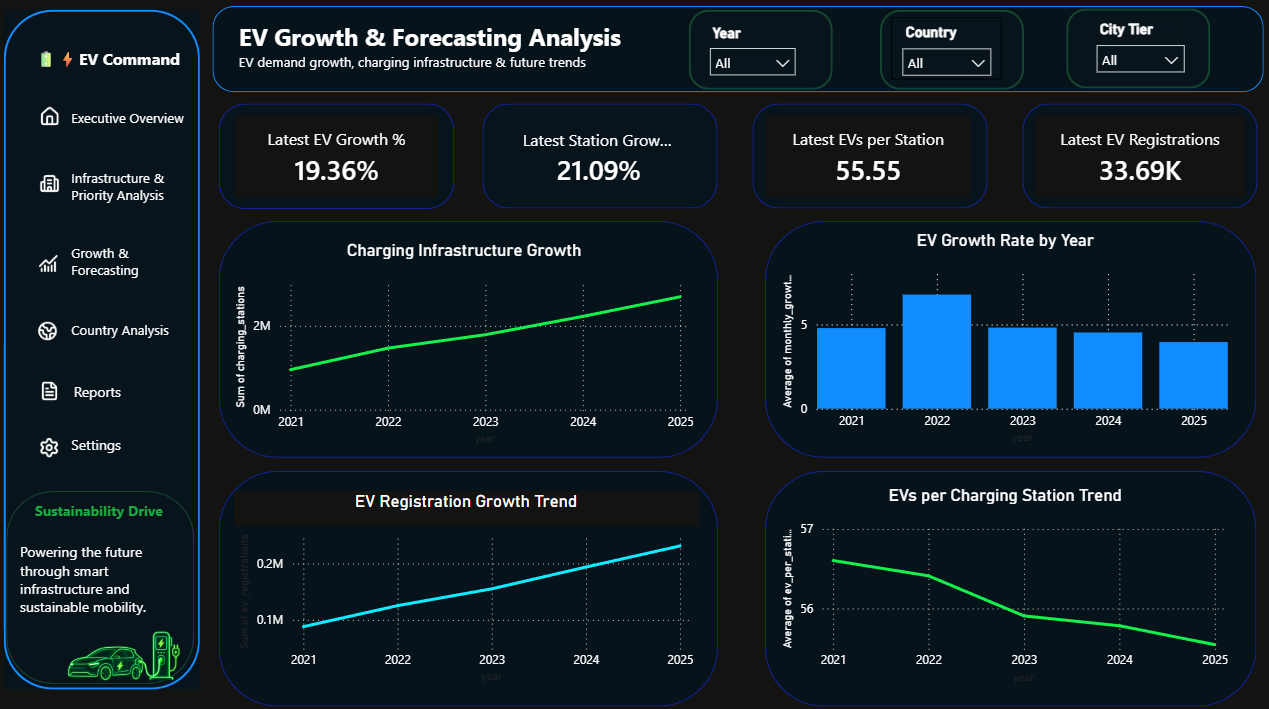

What the dashboard file says about the page in this screenshot:
{"tool":"powerbi","page":{"name":"3.Growth & Forecasting","canvas":[1280,720],"ordinal":2},"visuals":[{"type":"shape","box":[217.5,10.3,1051.2,86.2],"z":0},{"type":"textbox","box":[239.3,19.6,409.8,88.3],"z":1000},{"type":"shape","box":[8.6,13.5,196.3,679.8],"z":2000},{"type":"shape","box":[223.9,475,499.2,235.5],"z":3000},{"type":"lineChart","title":"EV Registration Growth Trend","fields":{"Category":["ev_charging_analysis ev_data.year"],"Y":["Sum(ev_charging_analysis ev_data.ev_registrations)"]},"box":[239.3,495.4,464.5,196.9],"z":4000},{"type":"shape","box":[223.9,225.2,499.2,236.8],"z":5000},{"type":"lineChart","title":"Charging Infrastructure Growth","fields":{"Category":["ev_charging_analysis ev_data.year"],"Y":["Sum(ev_charging_analysis ev_data.charging_stations)"]},"box":[235.5,243.2,468.4,209.7],"z":6000},{"type":"shape","box":[769.4,225.2,491.5,236.8],"z":7000},{"type":"shape","box":[769.4,474.8,491.5,235.5],"z":8000},{"type":"lineChart","title":"EVs per Charging Station Trend","fields":{"Y":["Avg(ev_charging_analysis ev_data.ev_per_station)"],"Category":["ev_charging_analysis ev_data.year"]},"box":[782.3,488.9,455.5,203.3],"z":9000},{"type":"clusteredColumnChart","title":"EV Growth Rate by Year","fields":{"Category":["ev_charging_analysis ev_data.year"],"Y":["Avg(ev_charging_analysis ev_data.monthly_growth_pct)"]},"box":[782.3,234.2,455.5,218.7],"z":10000},{"type":"shape","box":[693.3,13.5,144,80],"z":11000},{"type":"shape","box":[885.2,14.2,144,80],"z":12000},{"type":"shape","box":[1071.8,12.9,144.1,80],"z":13000},{"type":"slicer","fields":{"Values":["ev_charging_analysis ev_data.year"]},"box":[704.3,22.1,107.5,63.8],"z":14000},{"type":"slicer","fields":{"Values":["ev_charging_analysis ev_data.country"]},"box":[896.8,21.9,110.4,62.6],"z":15000},{"type":"slicer","fields":{"Values":["ev_charging_analysis ev_data.city_tier"]},"box":[1091.1,19.3,108,66],"z":16000},{"type":"textbox","box":[25.8,46.6,174.2,47.9],"z":17000},{"type":"textbox","box":[71.2,108,122.7,44.2],"z":18000},{"type":"textbox","box":[71.2,168.1,122.7,56.4],"z":19000},{"type":"textbox","box":[71.2,242.9,98.2,49.1],"z":20000},{"type":"textbox","box":[71.2,320.2,109.2,39.3],"z":21000},{"type":"image","box":[39.3,110.4,31.9,20.9],"z":22000},{"type":"image","box":[44.2,177.9,21,20],"z":23000},{"type":"image","box":[42.9,257.7,21,20],"z":24000},{"type":"image","box":[42.9,325.2,20.7,20],"z":25000},{"type":"textbox","box":[73.6,381.6,72.4,46.6],"z":26000},{"type":"image","box":[44.2,385.3,21,20],"z":27000},{"type":"textbox","box":[71.2,434.4,90.8,36.8],"z":28000},{"type":"image","box":[44.2,441.7,20.7,20.7],"z":29000},{"type":"shape","box":[11.6,495.4,187.9,193],"z":30000},{"type":"textbox","box":[35.6,500.6,147.2,40.5],"z":31000},{"type":"textbox","box":[19.6,541.1,180.4,93.3],"z":32000},{"type":"image","box":[61.4,619.6,128.9,84.4],"z":33000},{"type":"shape","box":[223.9,108.1,235.5,105.5],"z":34000},{"type":"shape","box":[487.7,108.1,235,105],"z":35000},{"type":"shape","box":[757.9,108.1,235,105],"z":36000},{"type":"shape","box":[1028.1,108.1,235,105],"z":37000},{"type":"cardVisual","title":"Latest EV Growth %","fields":{"Data":["ev_charging_analysis ev_data.Latest EV Growth %"]},"box":[235.5,114.5,213.6,91.4],"z":38000},{"type":"cardVisual","title":"Latest EV Growth %","fields":{"Data":["ev_charging_analysis ev_data.Latest Station Growth %"]},"box":[499.2,115.8,210,90],"z":39000},{"type":"cardVisual","title":"Latest EV Growth %","fields":{"Data":["ev_charging_analysis ev_data.Latest EVs per Station"]},"box":[766.9,114.5,214.9,91.4],"z":40000},{"type":"cardVisual","title":"Latest EV Growth %","fields":{"Data":["ev_charging_analysis ev_data.Latest EV Registrations"]},"box":[1034.5,114.5,220,91.4],"z":41000}]}

Visuals, with their boxes on the page's 1280x720 design canvas (x1, y1, x2, y2). These are canvas units, not pixel positions in the 1269x709 screenshot, which may show the page scaled, cropped or inside an application window:
shape: x1=218, y1=10, x2=1269, y2=96
textbox: x1=239, y1=20, x2=649, y2=108
shape: x1=9, y1=14, x2=205, y2=693
shape: x1=224, y1=475, x2=723, y2=710
"EV Registration Growth Trend" lineChart: x1=239, y1=495, x2=704, y2=692
shape: x1=224, y1=225, x2=723, y2=462
"Charging Infrastructure Growth" lineChart: x1=236, y1=243, x2=704, y2=453
shape: x1=769, y1=225, x2=1261, y2=462
shape: x1=769, y1=475, x2=1261, y2=710
"EVs per Charging Station Trend" lineChart: x1=782, y1=489, x2=1238, y2=692
"EV Growth Rate by Year" clusteredColumnChart: x1=782, y1=234, x2=1238, y2=453
shape: x1=693, y1=14, x2=837, y2=94
shape: x1=885, y1=14, x2=1029, y2=94
shape: x1=1072, y1=13, x2=1216, y2=93
slicer - ev_charging_analysis ev_data.year: x1=704, y1=22, x2=812, y2=86
slicer - ev_charging_analysis ev_data.country: x1=897, y1=22, x2=1007, y2=84
slicer - ev_charging_analysis ev_data.city_tier: x1=1091, y1=19, x2=1199, y2=85
textbox: x1=26, y1=47, x2=200, y2=94
textbox: x1=71, y1=108, x2=194, y2=152
textbox: x1=71, y1=168, x2=194, y2=224
textbox: x1=71, y1=243, x2=169, y2=292
textbox: x1=71, y1=320, x2=180, y2=360
image: x1=39, y1=110, x2=71, y2=131
image: x1=44, y1=178, x2=65, y2=198
image: x1=43, y1=258, x2=64, y2=278
image: x1=43, y1=325, x2=64, y2=345
textbox: x1=74, y1=382, x2=146, y2=428
image: x1=44, y1=385, x2=65, y2=405
textbox: x1=71, y1=434, x2=162, y2=471
image: x1=44, y1=442, x2=65, y2=462
shape: x1=12, y1=495, x2=200, y2=688
textbox: x1=36, y1=501, x2=183, y2=541
textbox: x1=20, y1=541, x2=200, y2=634
image: x1=61, y1=620, x2=190, y2=704
shape: x1=224, y1=108, x2=459, y2=214
shape: x1=488, y1=108, x2=723, y2=213
shape: x1=758, y1=108, x2=993, y2=213
shape: x1=1028, y1=108, x2=1263, y2=213
"Latest EV Growth %" cardVisual: x1=236, y1=114, x2=449, y2=206
"Latest EV Growth %" cardVisual: x1=499, y1=116, x2=709, y2=206
"Latest EV Growth %" cardVisual: x1=767, y1=114, x2=982, y2=206
"Latest EV Growth %" cardVisual: x1=1034, y1=114, x2=1254, y2=206
